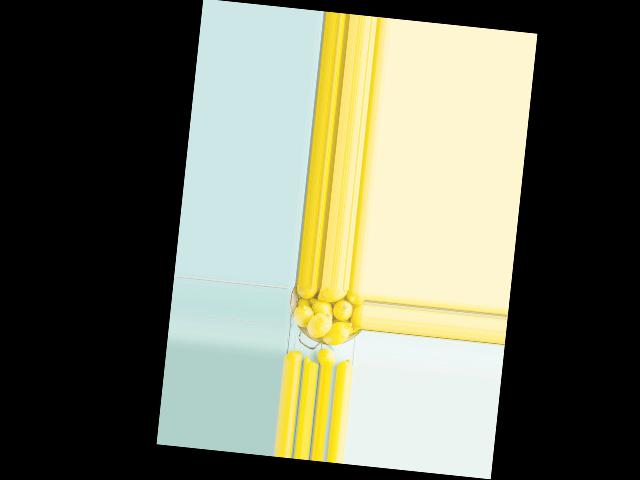lemon: (342, 288, 364, 304)
